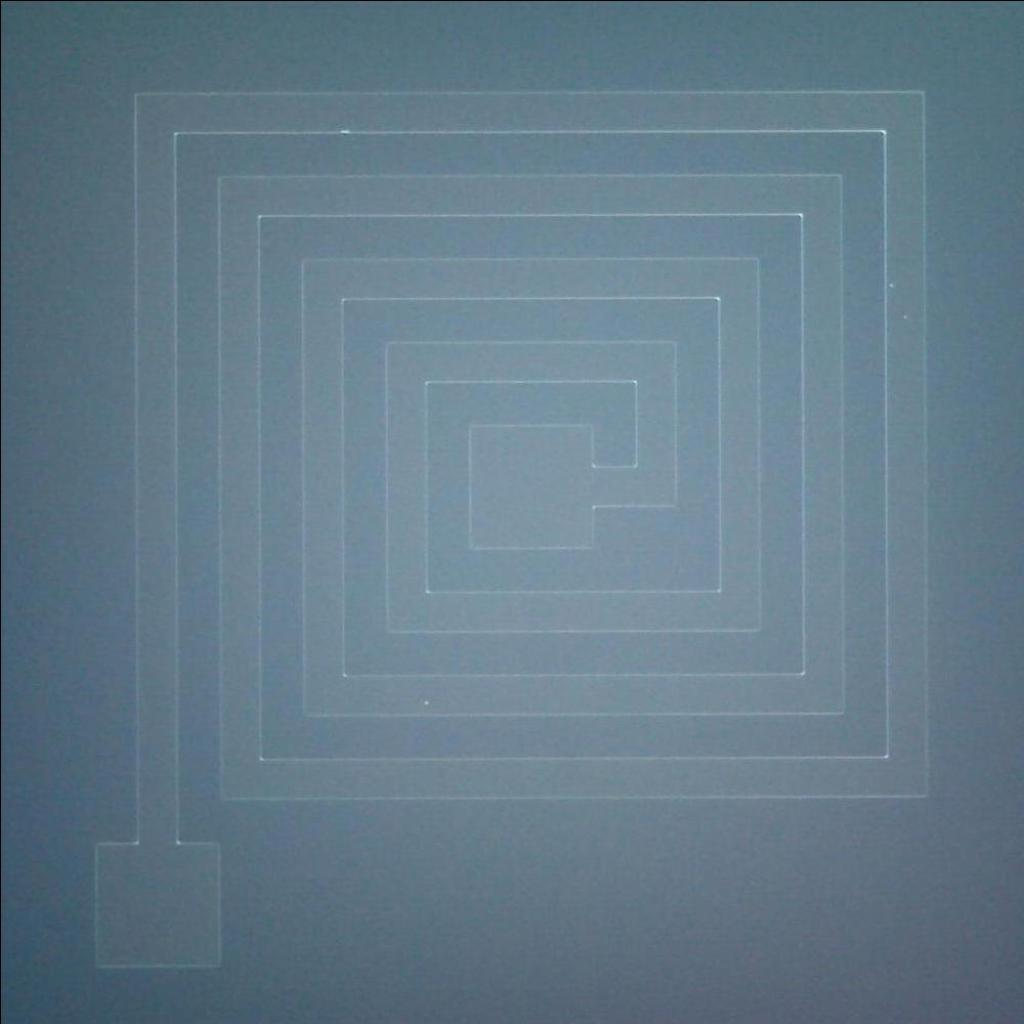dot: (875, 271, 907, 300), (897, 304, 920, 335), (411, 692, 437, 718)
